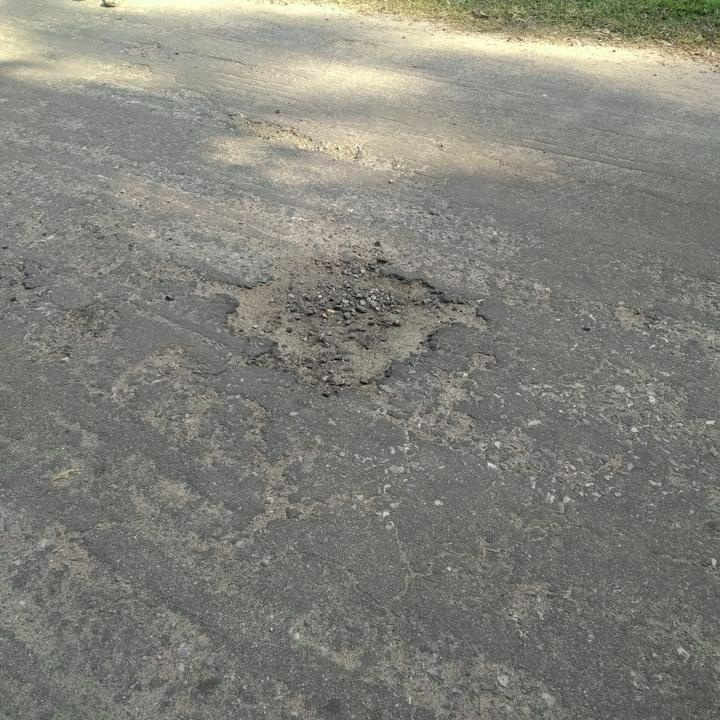pothole: (191, 252, 493, 390)
